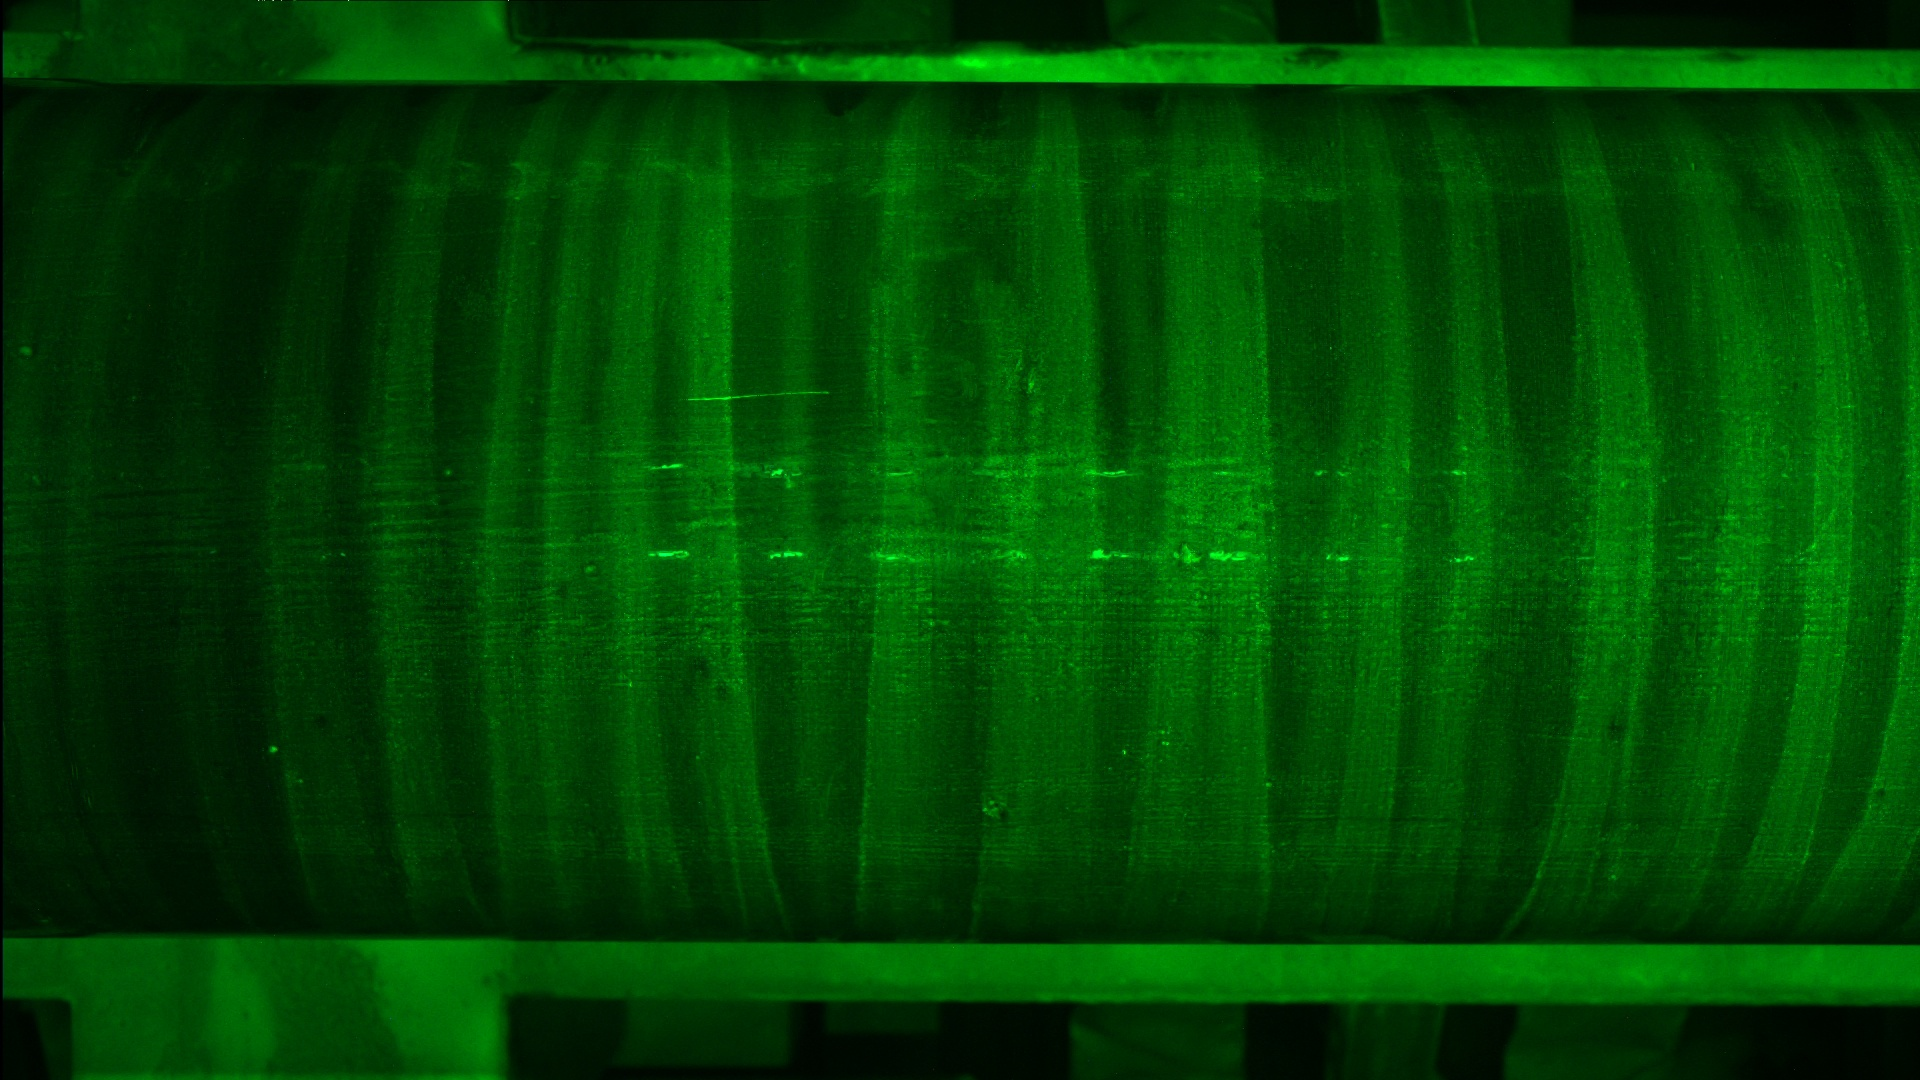flaw: (683, 381, 839, 409)
